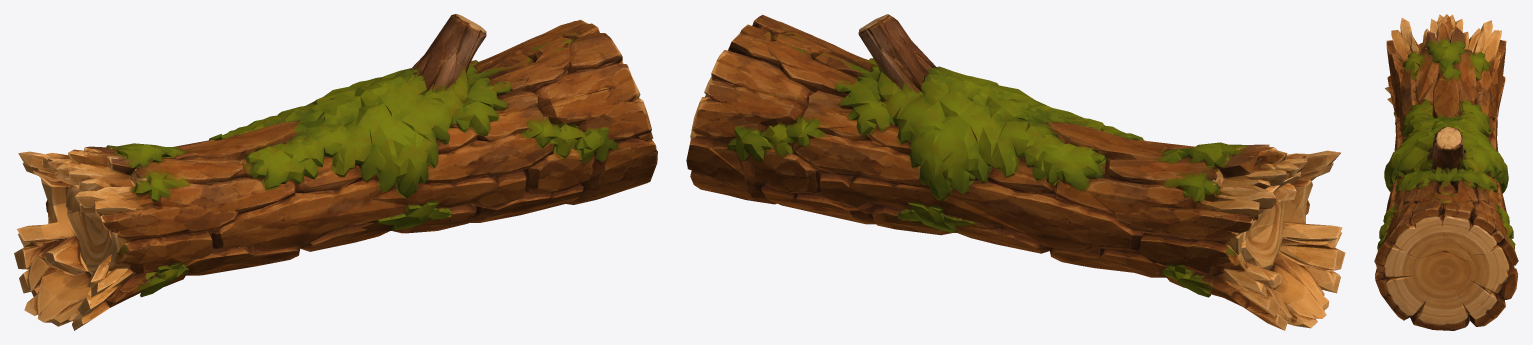
The model's file is fallen-log.glb.
The picture shows the model from 3 angles, left to right: view 1: azimuth 30°, elevation 25°; view 2: azimuth 150°, elevation 25°; view 3: azimuth 270°, elevation 25°; orthographic projection. The views are drawn at different scales.
Visible parts, largest first — view 1: output_unwrapped; view 2: output_unwrapped; view 3: output_unwrapped.
Boxes of the visible parts, box(x1,y1,x2,y2) form: output_unwrapped: box(14, 14, 657, 330); output_unwrapped: box(686, 14, 1345, 330); output_unwrapped: box(1374, 14, 1518, 330).
Bounding box in the file's own units: 2.4 × 0.7657 × 0.686.
Materials: 1 (1 with a texture image).
